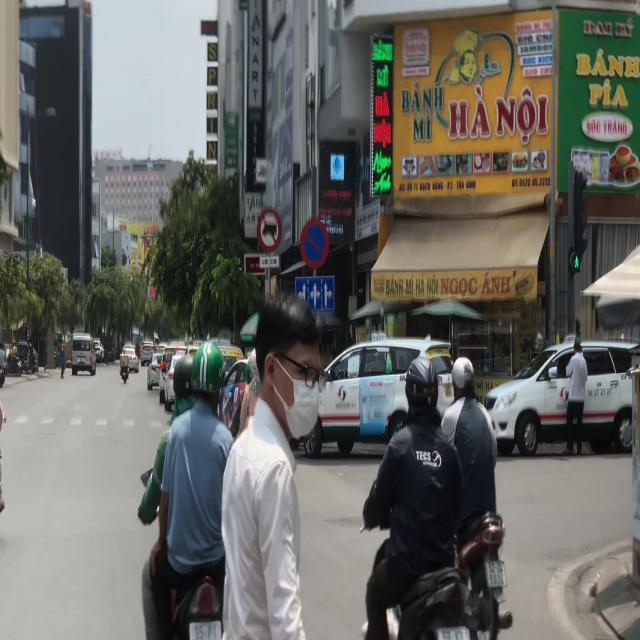Cam con lai: (256, 208, 282, 253)
Cam do: (300, 218, 330, 270)
